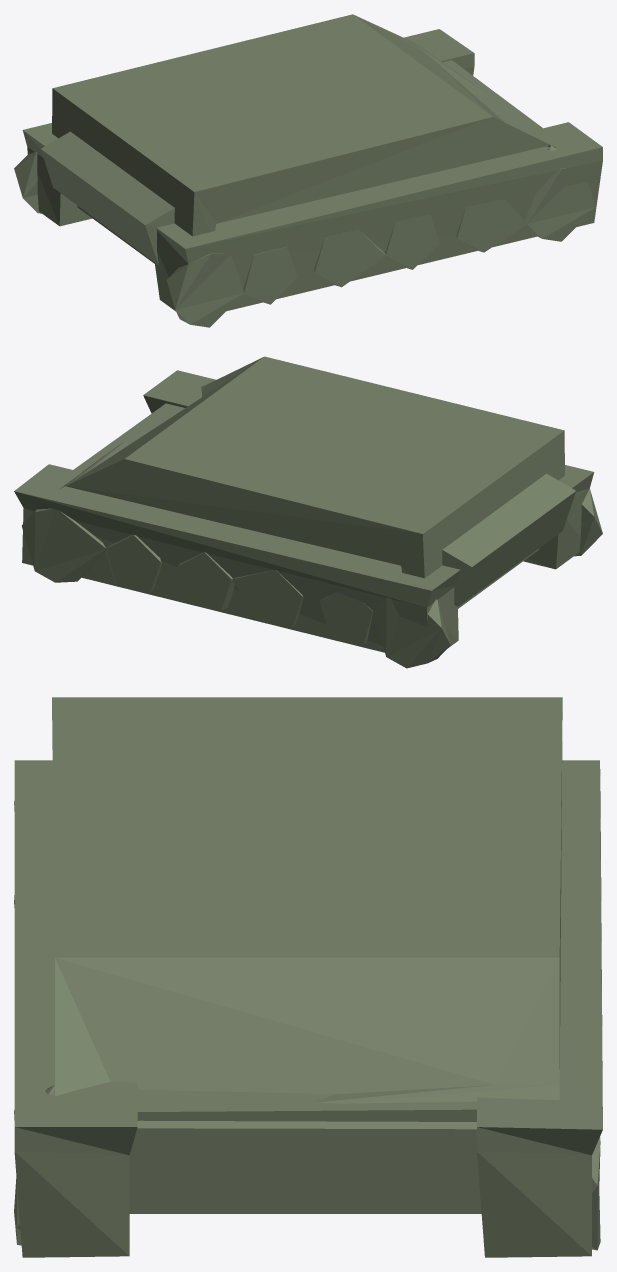
Rendered from tank.lod2.glb.
3 renders of one model, top to bottom at view 1: azimuth 30°, elevation 25°; view 2: azimuth 150°, elevation 25°; view 3: azimuth 270°, elevation 25°, orthographic. The views are drawn at different scales.
Size of the model in its own units: 3.31 by 0.97 by 2.19.
